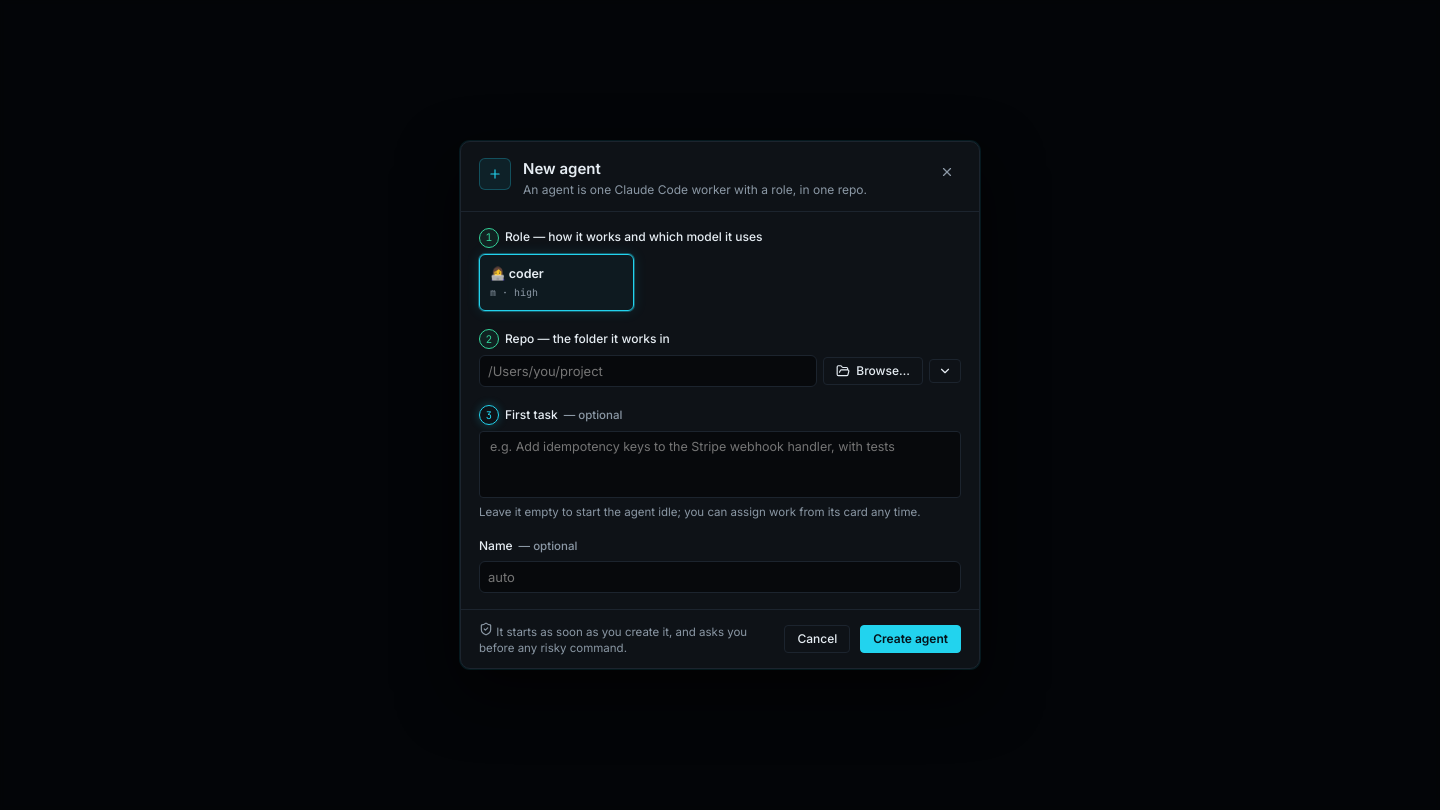
SpawnDialog repo browser › clicking a plain folder descends; breadcrumb and up navigate back
Click the button named "show folder list": (945, 371) [929,359,961,383]
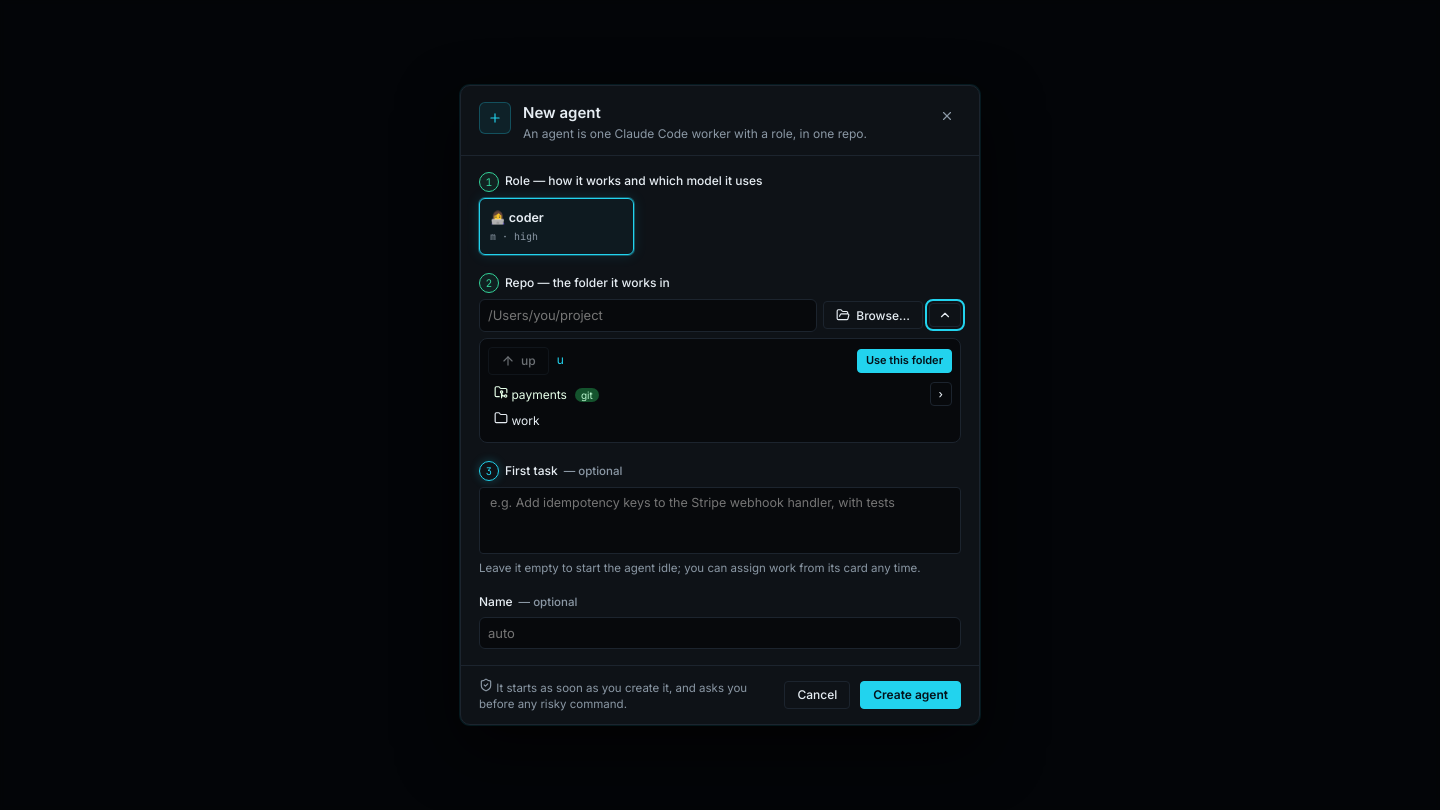
Click the button "work": (501, 418) [488,407,952,434]
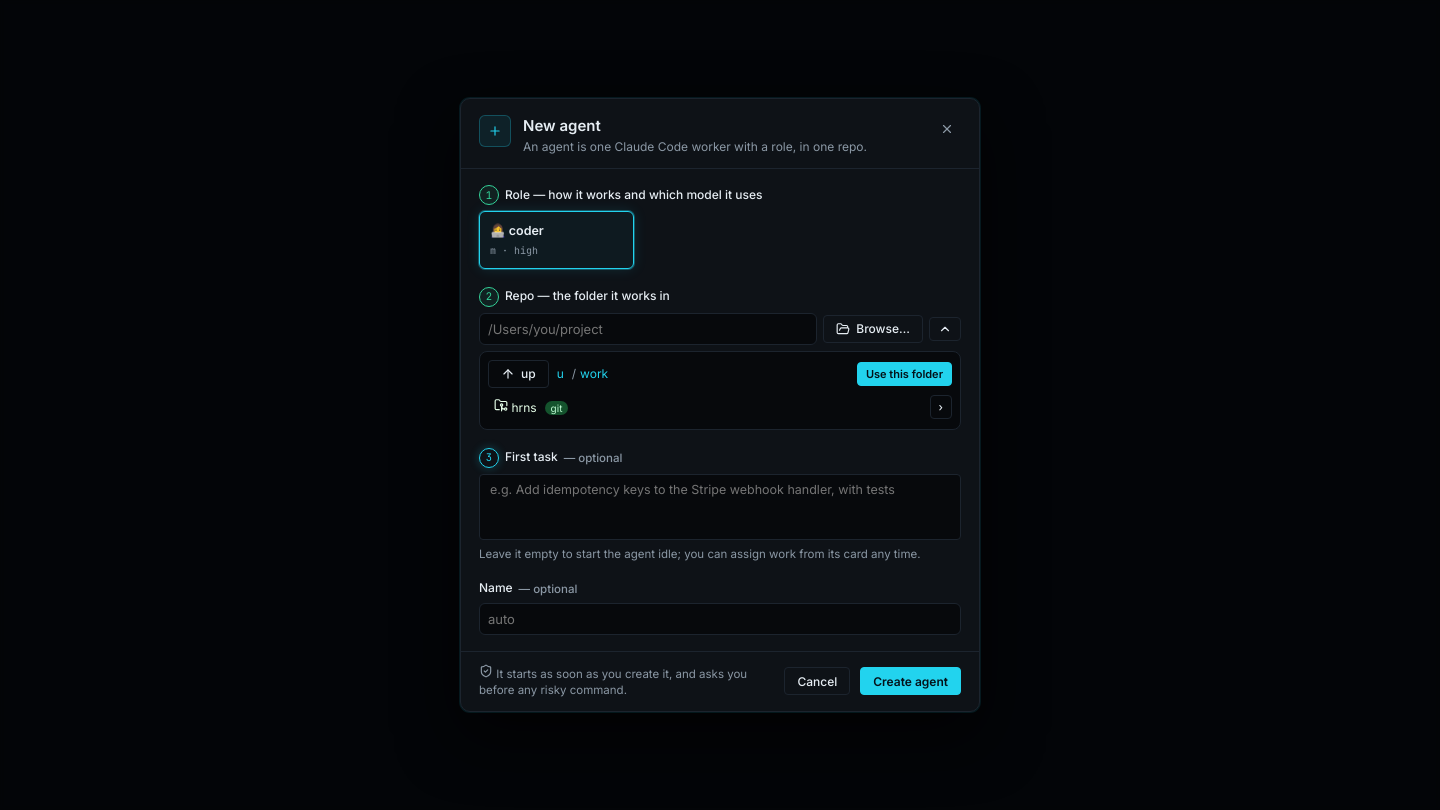
Expected: the button "hrns" is shown, [488,394,926,421]
Click the button with aria-label "⬆ up": (518, 374) [488,360,549,388]
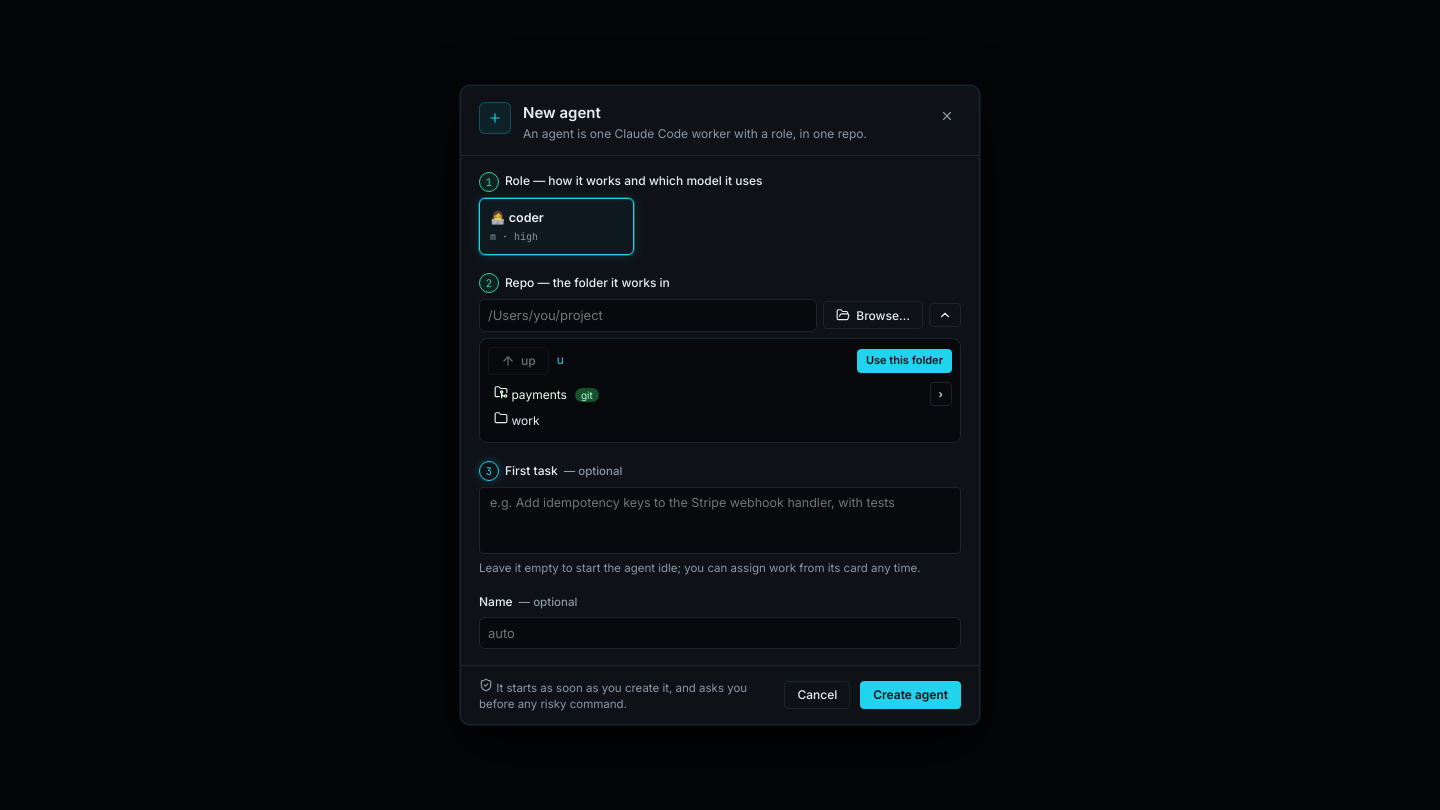
Expected: the button "work" is shown
Click the button "work": (501, 418) [488,407,952,434]
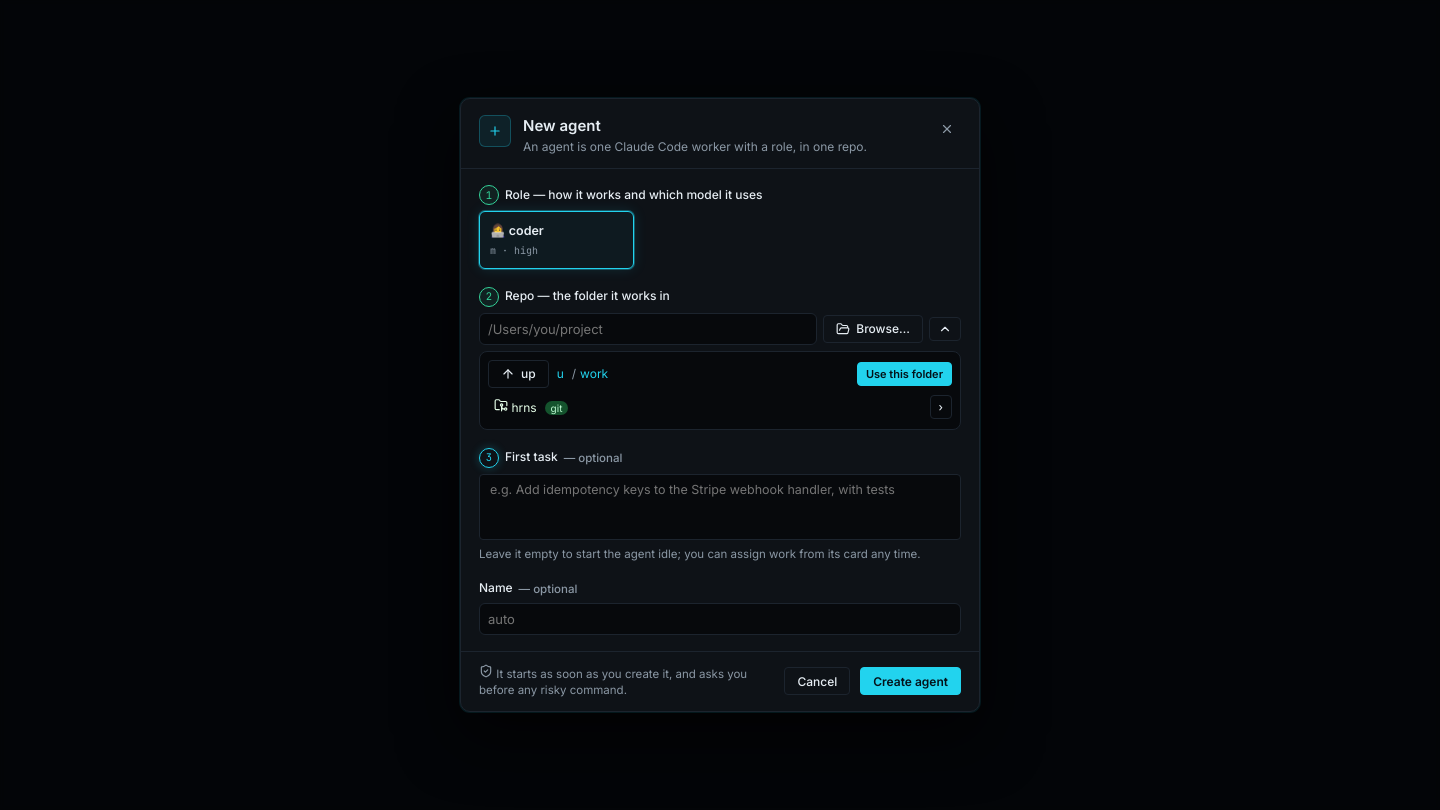
Expected: the button "hrns" is shown, [488,394,926,421]
Click the button "u": (560, 374) [553,364,568,384]
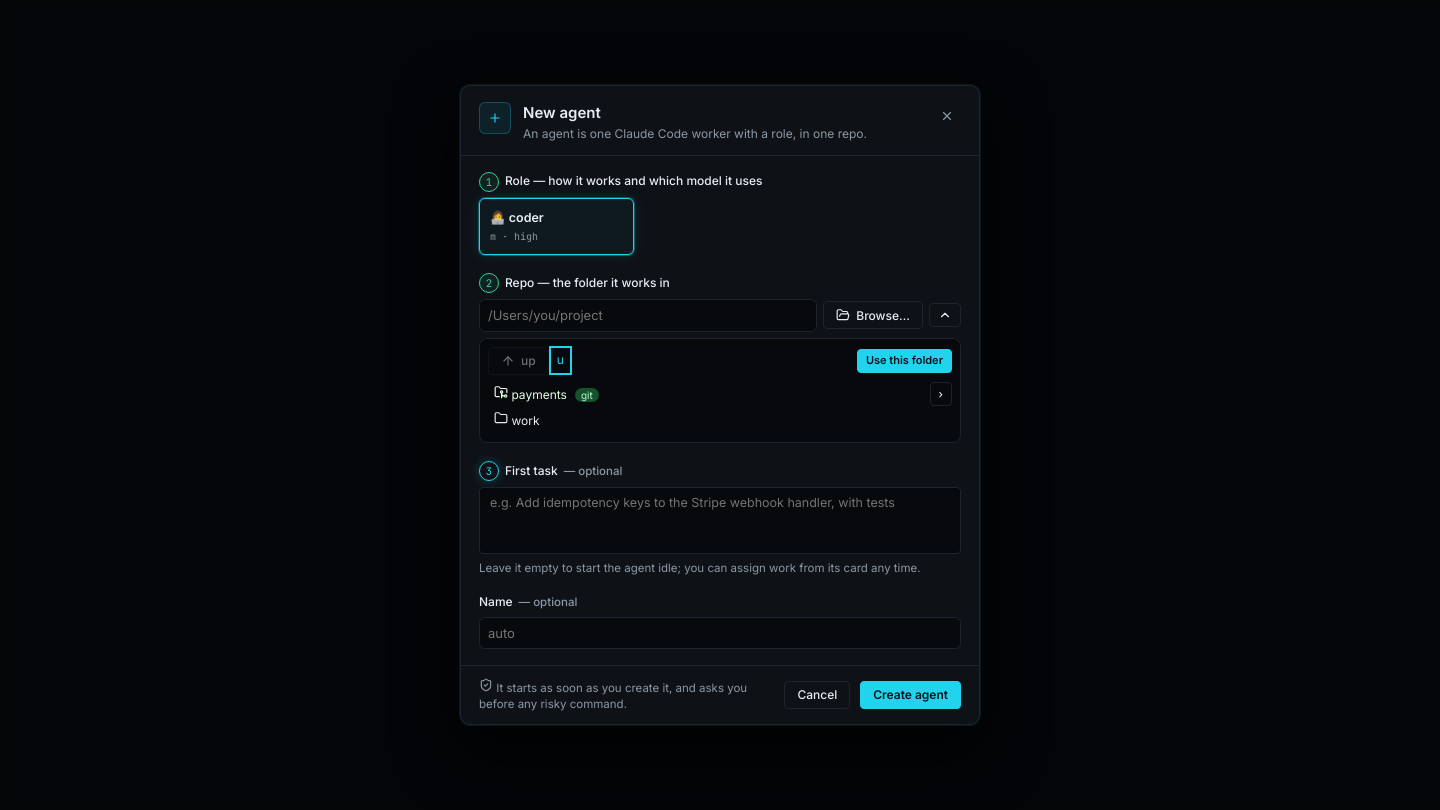
Expected: the button "payments" is shown, [488,381,926,407]
